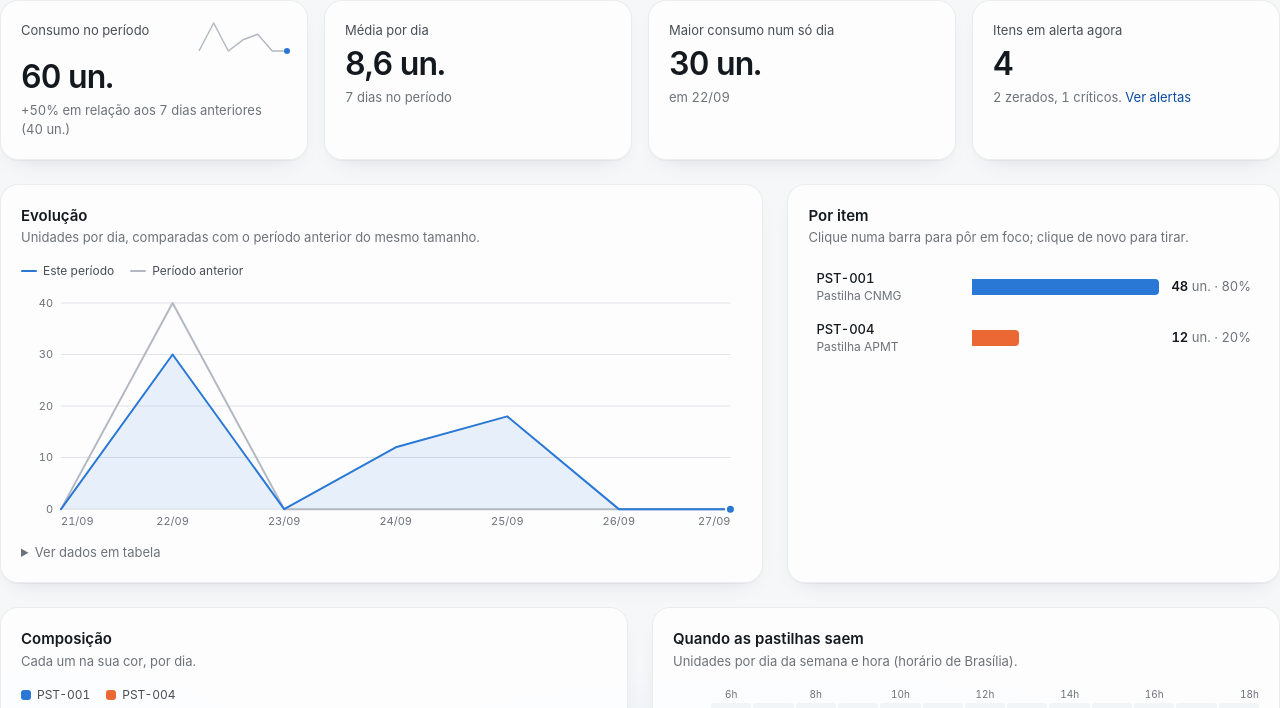
Test: RF-17a · Painel de análise › clicar em PST-004 põe o item em foco: aviso e consumo de 12 un.
Click the button "PST-004 Pastilha APMT 12 un. · 20%" at (845, 329), box [808,314,1259,361]
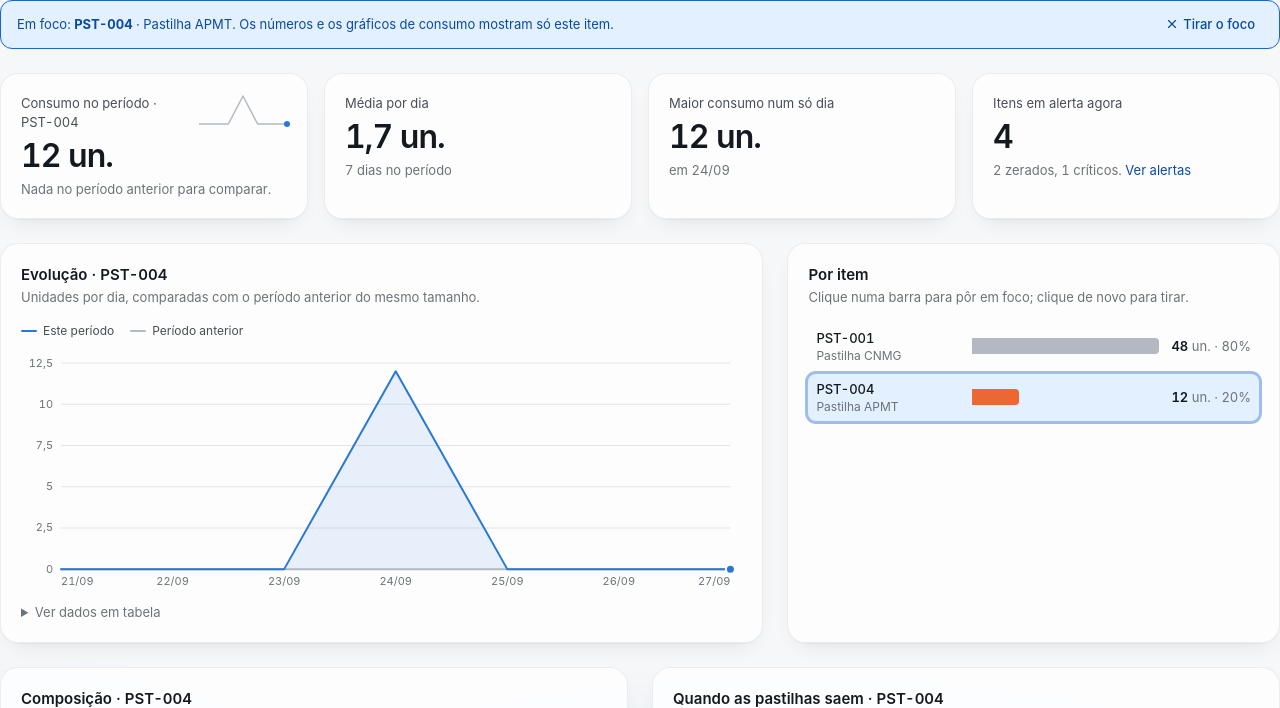
Expected: the message shows "Em foco: PST-004", [0,0,1279,49]
Expected: the text "12 un." below "Consumo no período · PST-004" is shown, [21,136,113,174]
